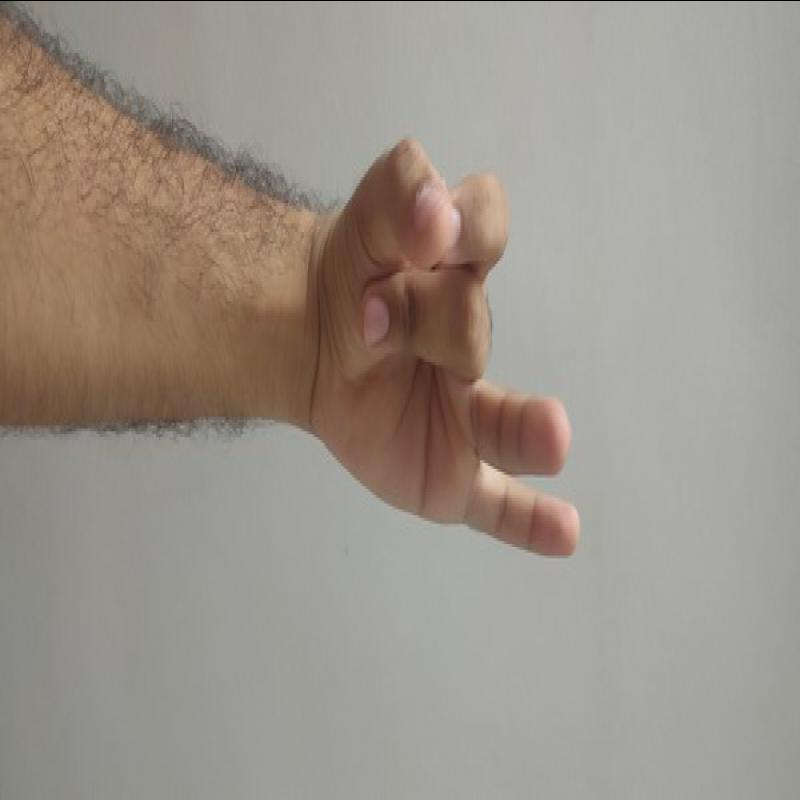Katakam: (306, 131, 593, 569)
